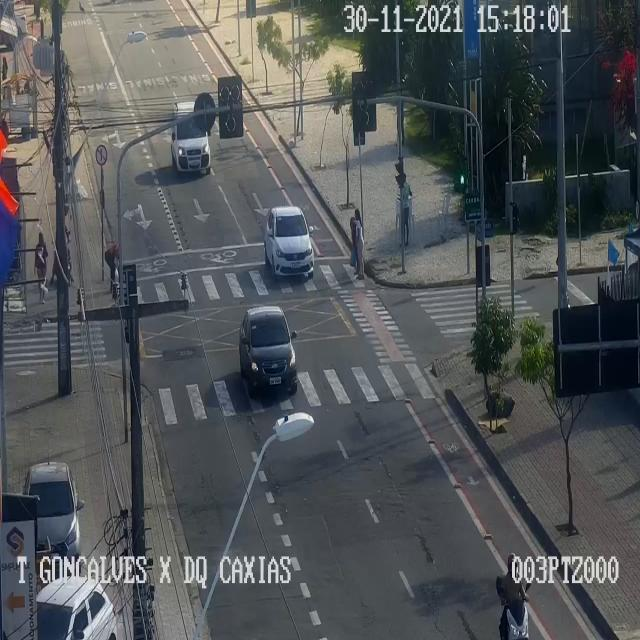Car: (24, 462, 80, 572), (36, 576, 116, 639), (239, 306, 297, 392), (264, 206, 313, 276), (170, 100, 210, 172)
Motorcycle: (498, 552, 529, 639)
